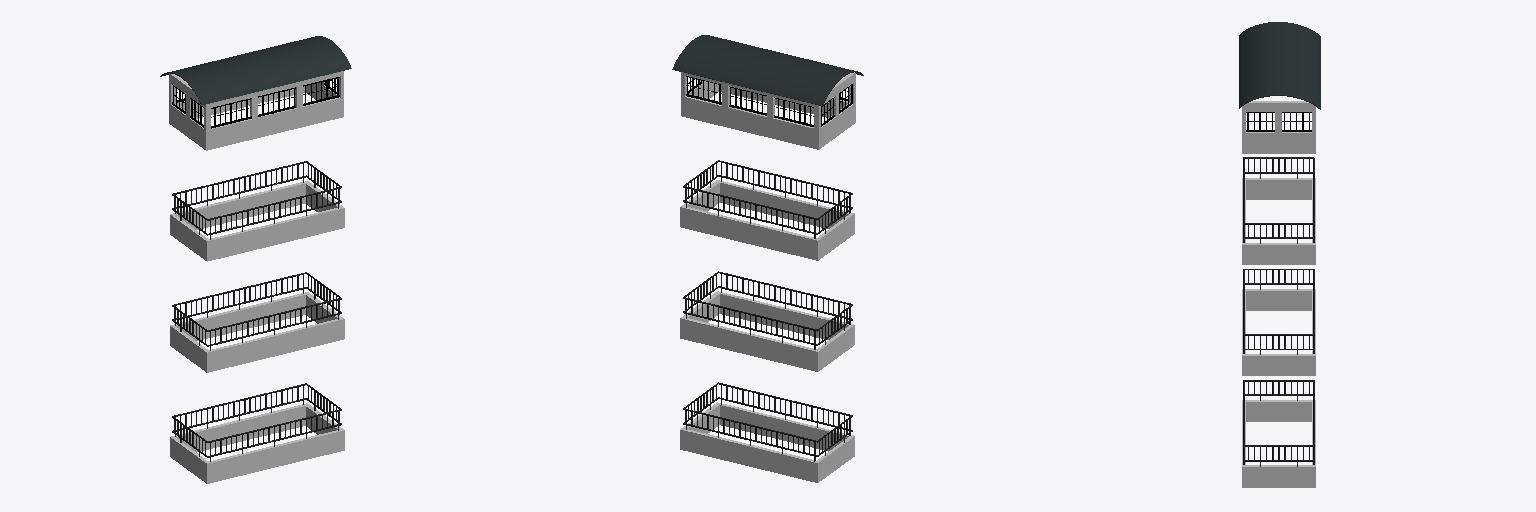
Rendered from balcon_6.obj.
3 views of the same model, side by side, from view 1: azimuth 30°, elevation 25°; view 2: azimuth 150°, elevation 25°; view 3: azimuth 270°, elevation 25° (orthographic).
Visible parts, largest first — view 1: BARROTES_PISOS_Cylinder.002; view 2: BARROTES_PISOS_Cylinder.002; view 3: BARROTES_PISOS_Cylinder.002.
Boxes of the visible parts, x1=… form: BARROTES_PISOS_Cylinder.002: x1=160, y1=36, x2=351, y2=483; BARROTES_PISOS_Cylinder.002: x1=672, y1=35, x2=863, y2=482; BARROTES_PISOS_Cylinder.002: x1=1239, y1=22, x2=1320, y2=487.
Bounding box in the file's own units: 7.78 × 19.54 × 3.69.